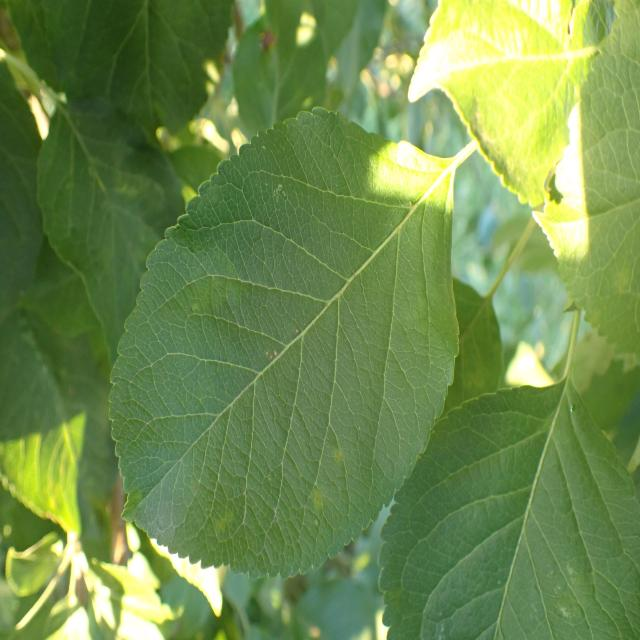scab: (50, 76, 162, 260)
